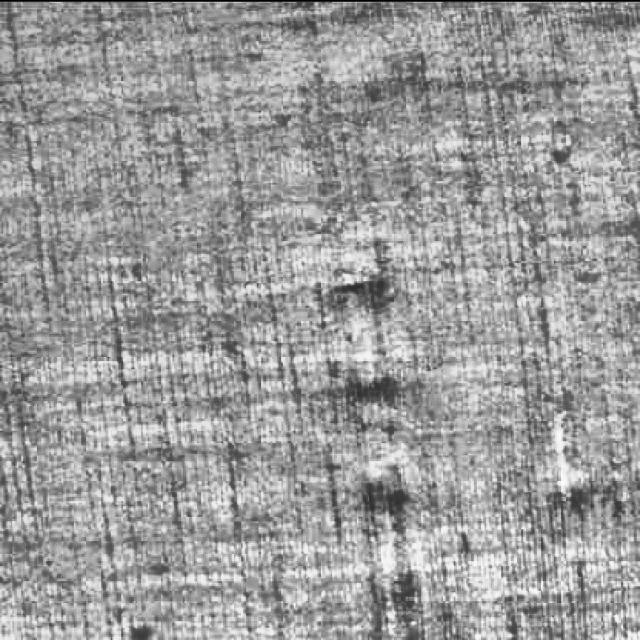thread_error: (542, 404, 584, 515)
